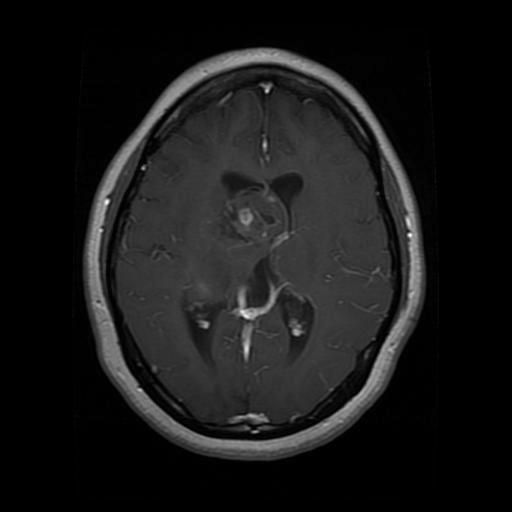Tumour-Glioma: (220, 188, 287, 264)
